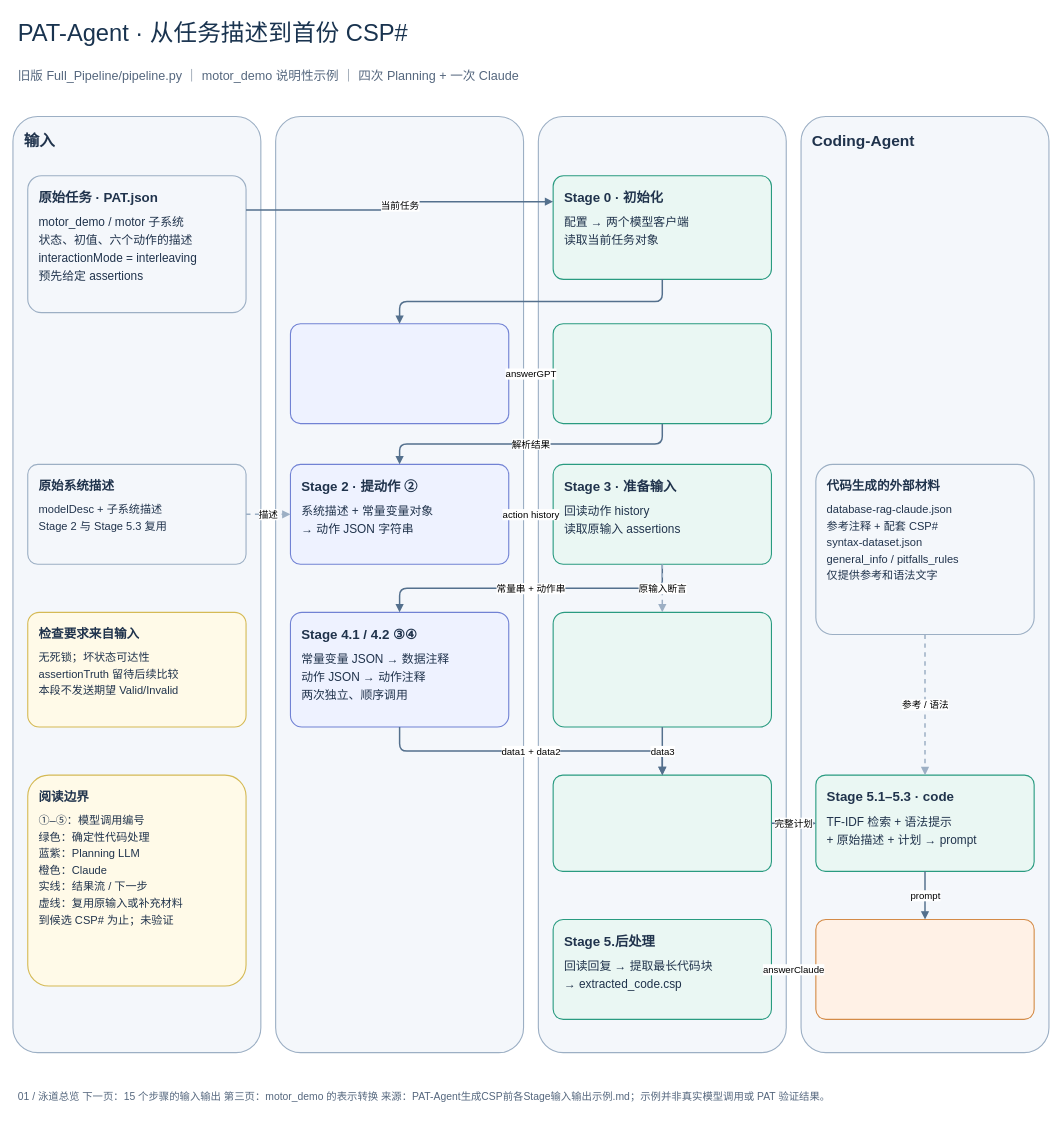
The diagram is 1063 pixels wide and 1131 high, and some of its shapes have lost their labels. The box of each missing label's shape, as (x1, y1, x2, y2) in pixels:
Planning-Agent: (275, 116, 524, 1053)
Result-Process · code: (537, 116, 786, 1053)
Stage 1 · 提数据 ① 子系统描述 + 组合模式 → 常量 / 变量 JSON 字符串: (290, 323, 509, 424)
Stage 1.后处理 回读 const-history.json → 字符串 + 解析对象: (552, 323, 772, 424)
Stage 4.3 · 模板拼接 modelName + 组合模式 + 原输入中的断言 → 系统 / 谓词 / 断言说明: (552, 611, 772, 727)
Stage 4.4 + 后处理 合并 data1 + data2 + data3 保存并回读完整计划: (552, 774, 772, 872)
Stage 5.4 · Claude ⑤ 完整 prompt → 含 CSP# 回复 保存 claude-code.json: (815, 919, 1034, 1020)
